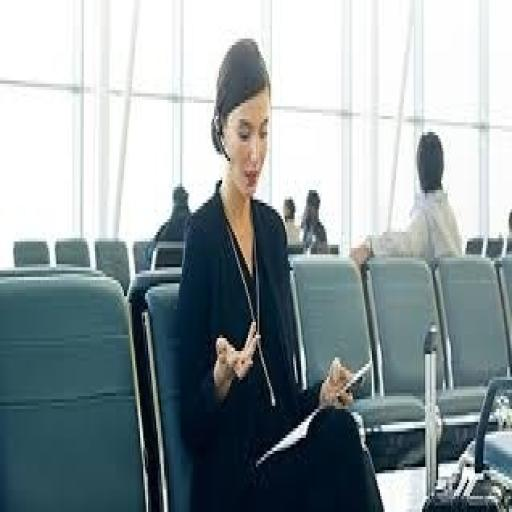sitting: (176, 32, 386, 506)
